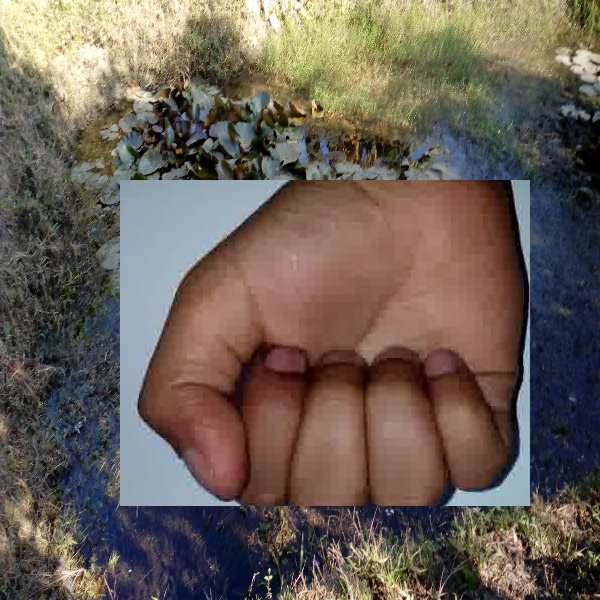A: (120, 180, 530, 506)
